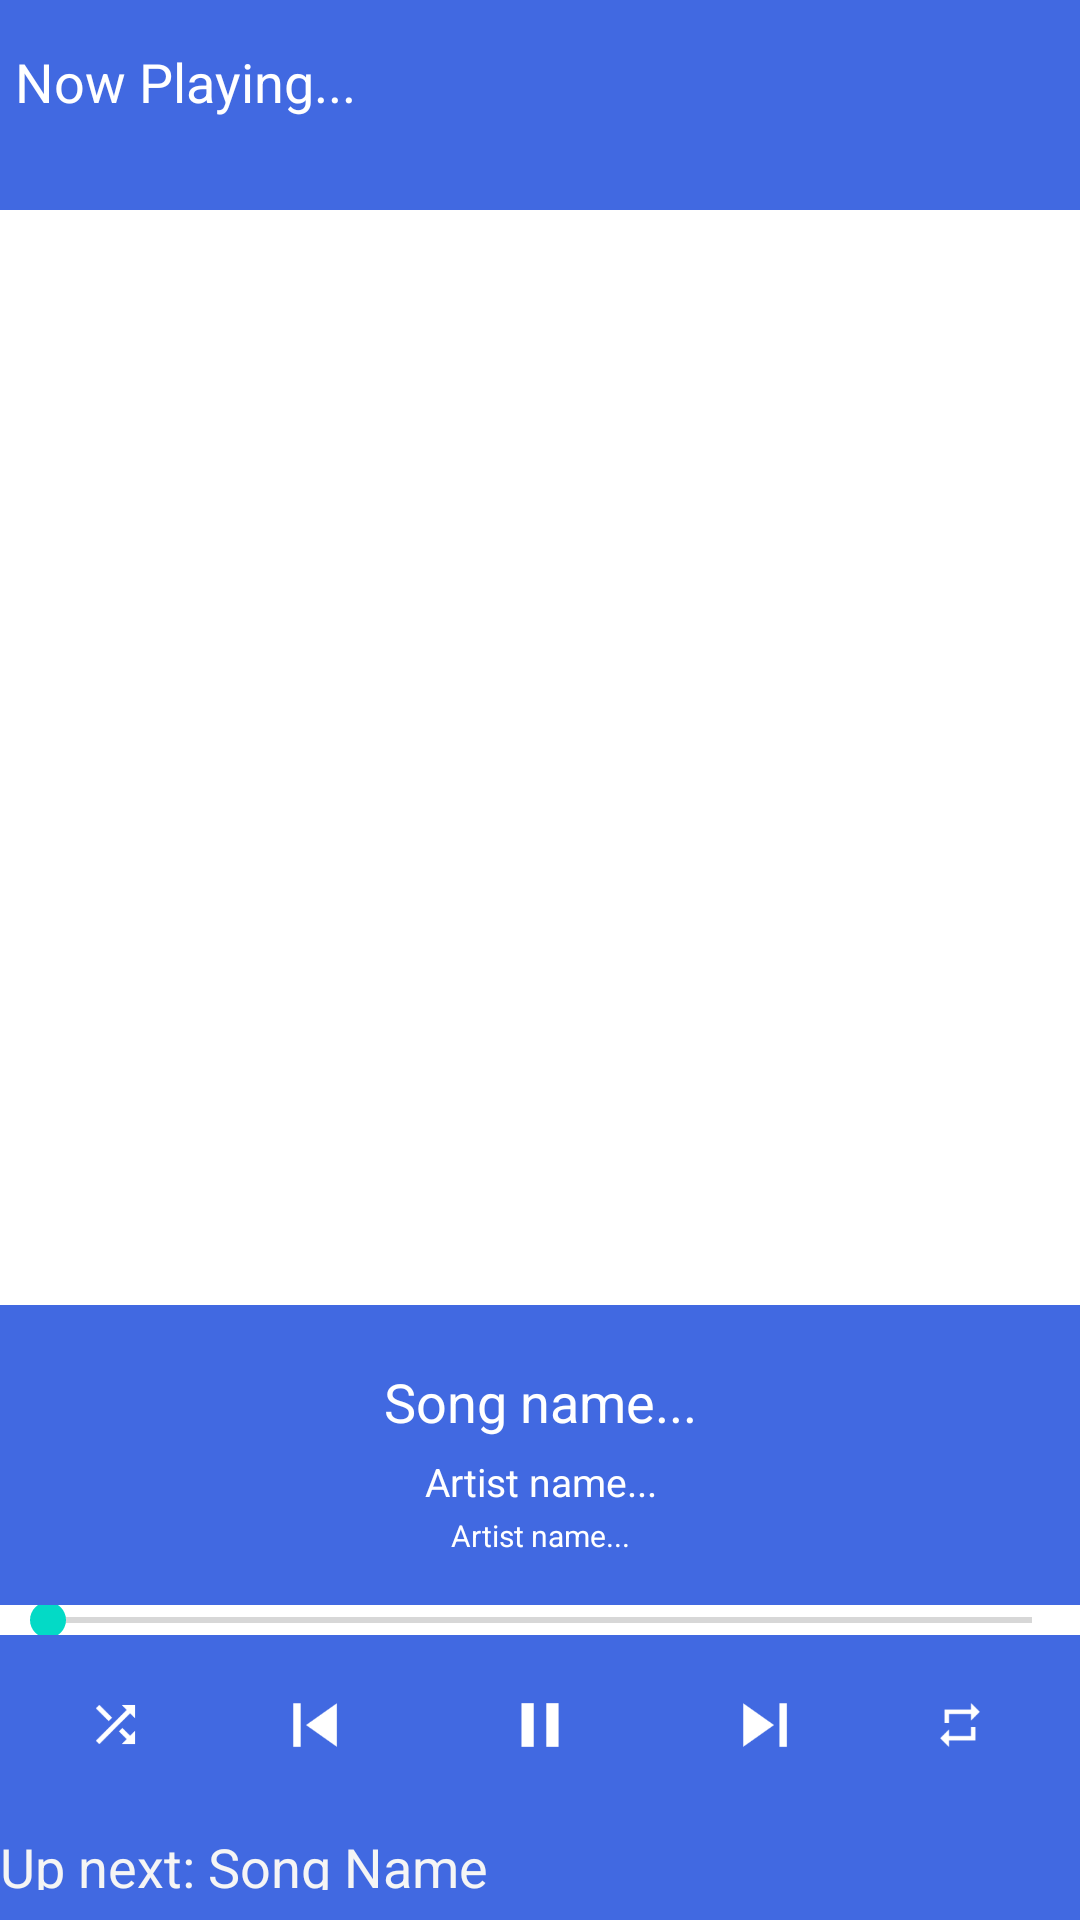

Screen size 1080w x 1920h. Icon name, then its box in pixels as [x1,y1,x2,y2]:
pause: [521,1703,559,1747]
prev: [293,1703,337,1747]
repeatoff: [940,1703,980,1747]
shuffleoff: [96,1705,135,1744]
skip: [743,1703,787,1747]
